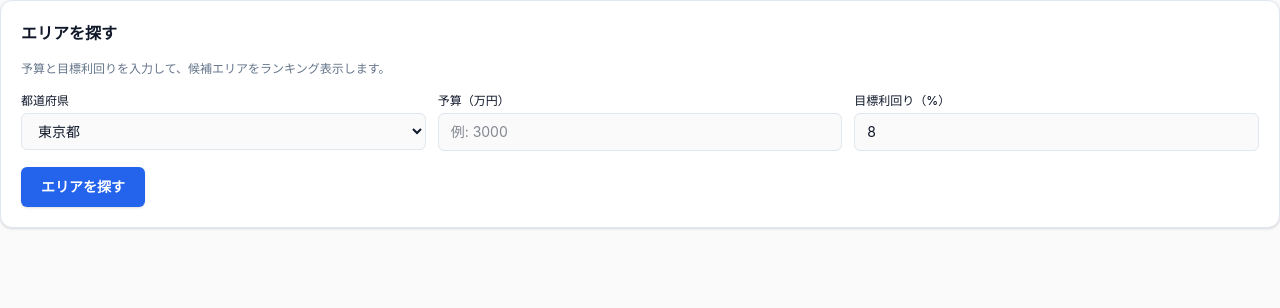
Test: AreaDiscovery › APIエラー時にエラーメッセージが表示される
Click the button "エリアを探す".
click(83, 187)  # box 21,167 -> 145,207
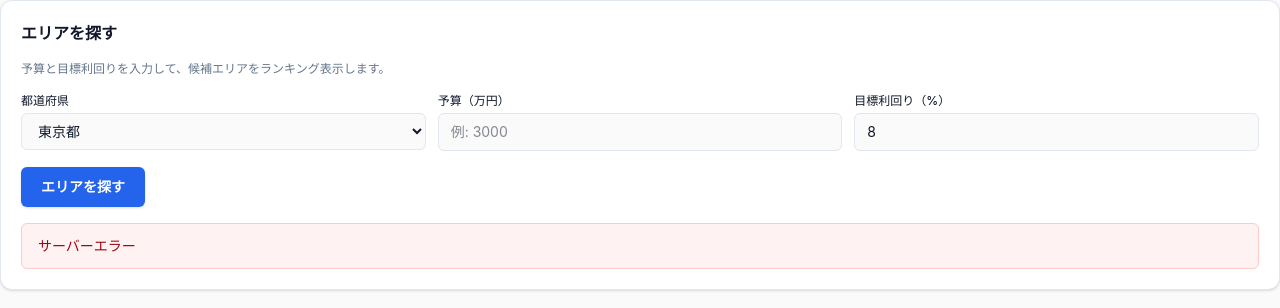
Result: the text "サーバーエラー" is shown at 21,223 -> 1259,269
